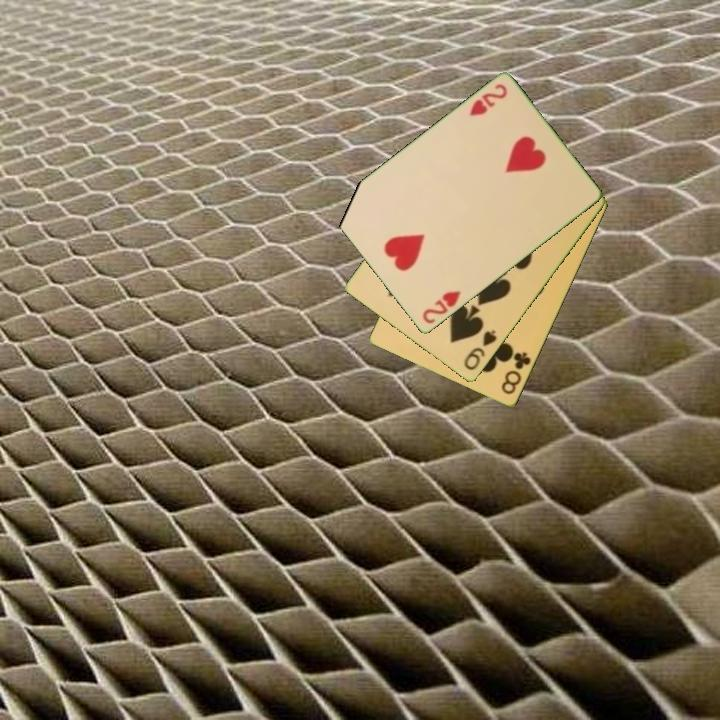2h: (419, 287, 464, 327), (466, 80, 510, 119)
8c: (498, 349, 534, 398)
9s: (460, 326, 500, 374)
